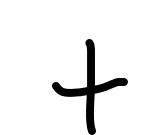plus: (51, 39, 126, 135)
